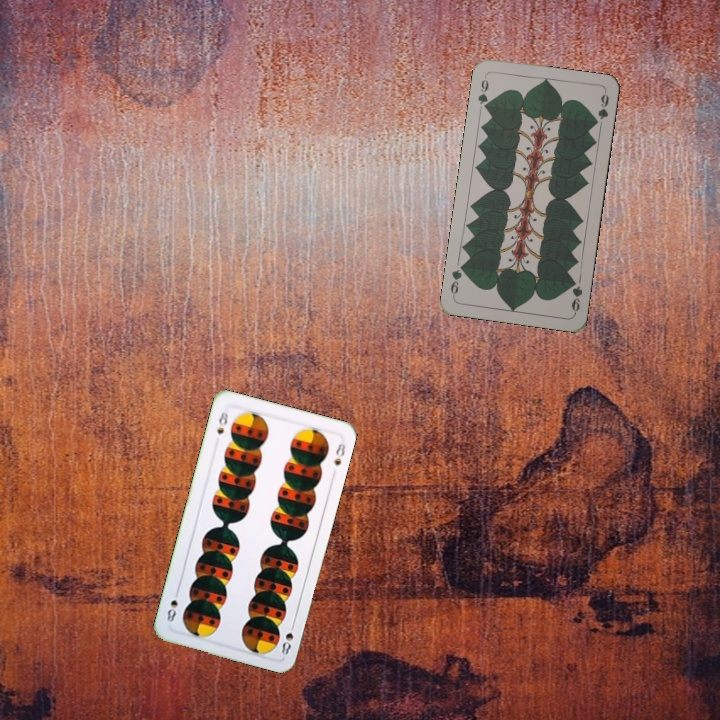G9: (567, 275, 585, 316), (474, 72, 491, 113)
S8: (277, 618, 297, 657), (213, 405, 231, 437)
